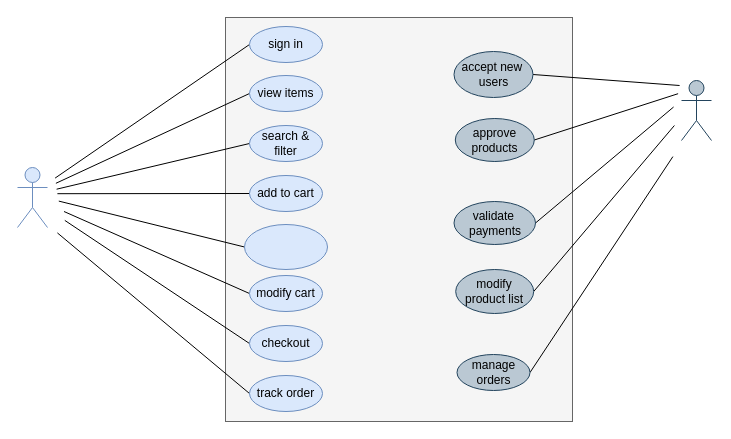
Image size: 731x439. Some labels were removed from this diagram. The box of each missing label's shape, as (x1, y1, x2, y2) in pixels:
Admin: (680, 80, 712, 140)
remove from cart: (244, 224, 328, 270)
User: (16, 166, 48, 228)
